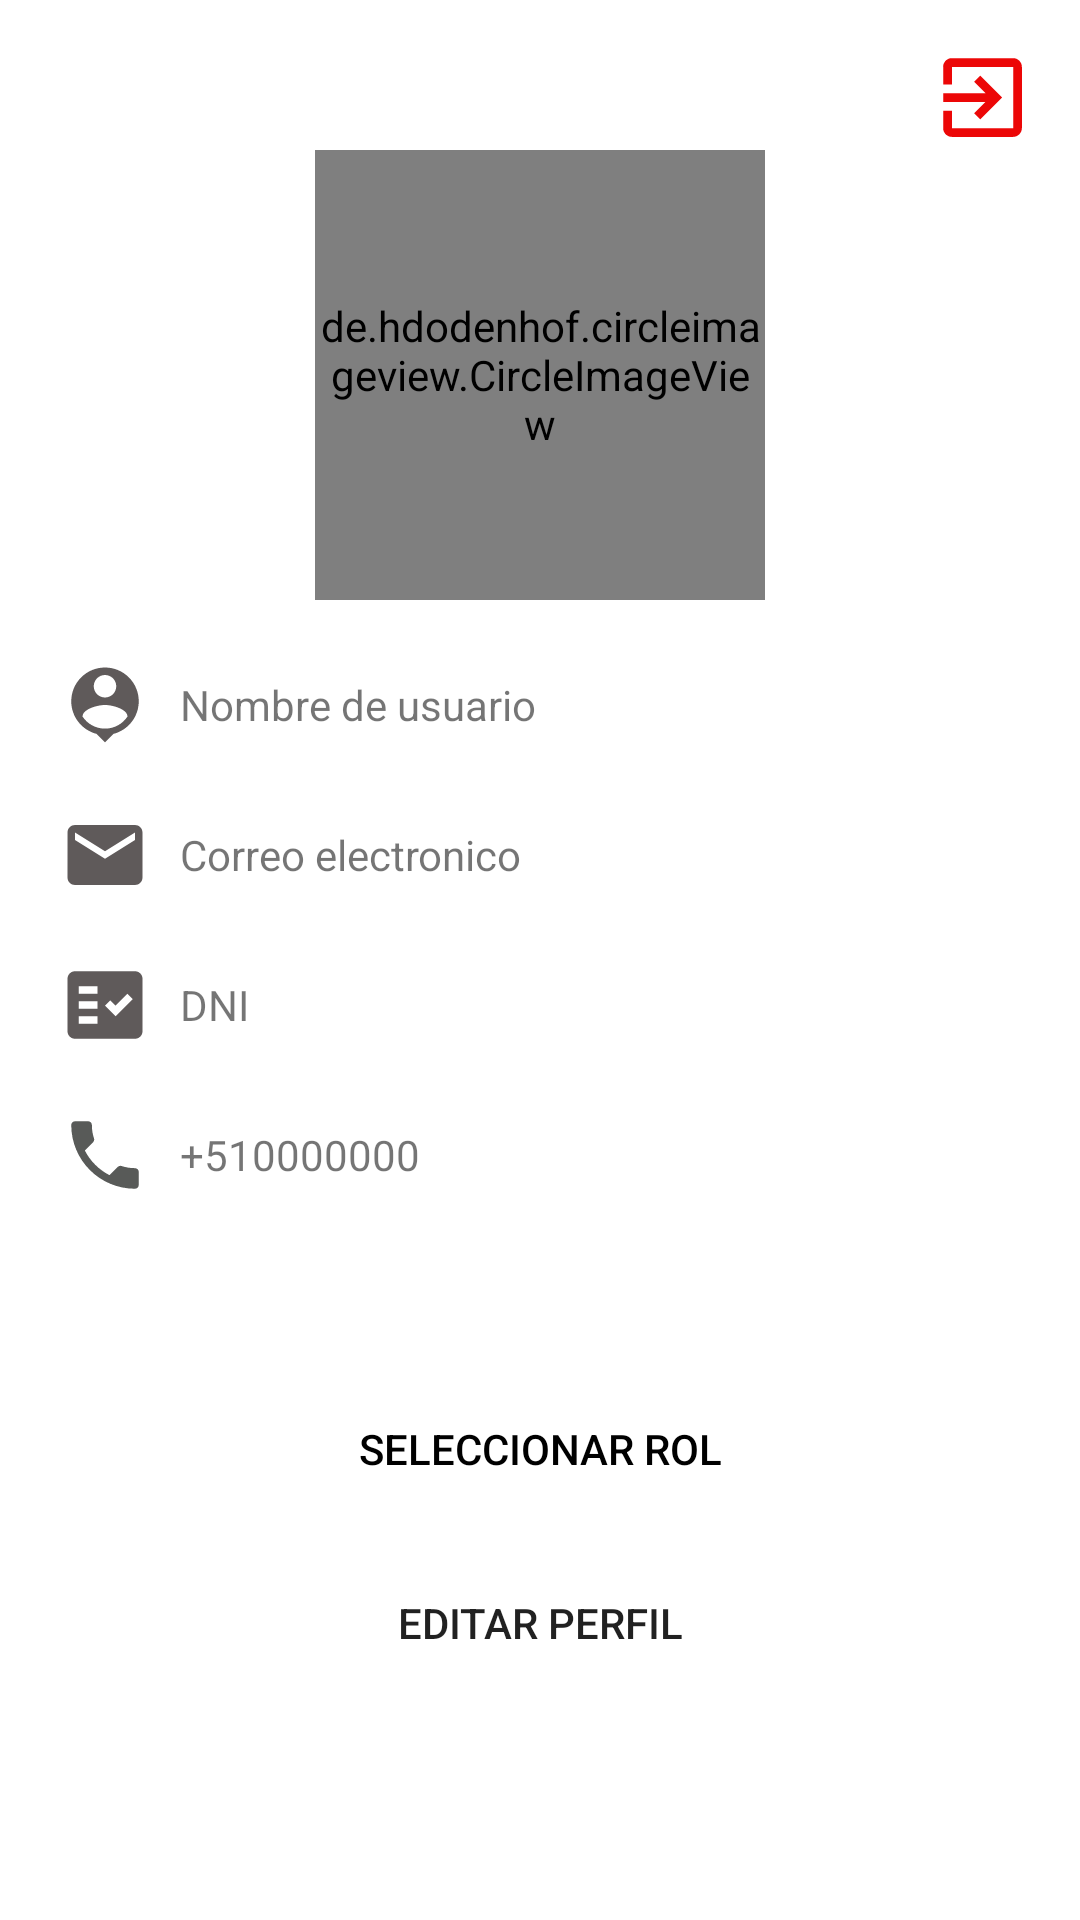

Icon bounding boxes for this 1080×1920 phone screenshot, format (x1, y1, x2, y2):
email: (67, 825, 143, 885)
person pin: (71, 667, 139, 742)
phone: (71, 1121, 139, 1189)
